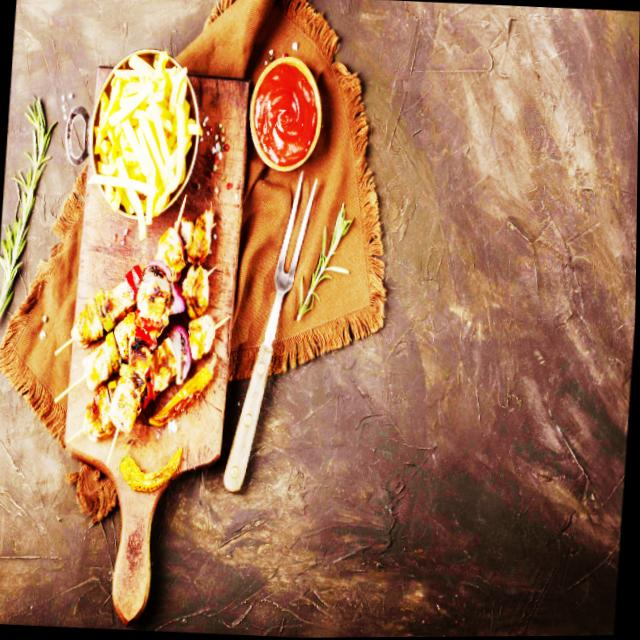french fries: (84, 49, 206, 243)
ketchup: (248, 60, 324, 172)
